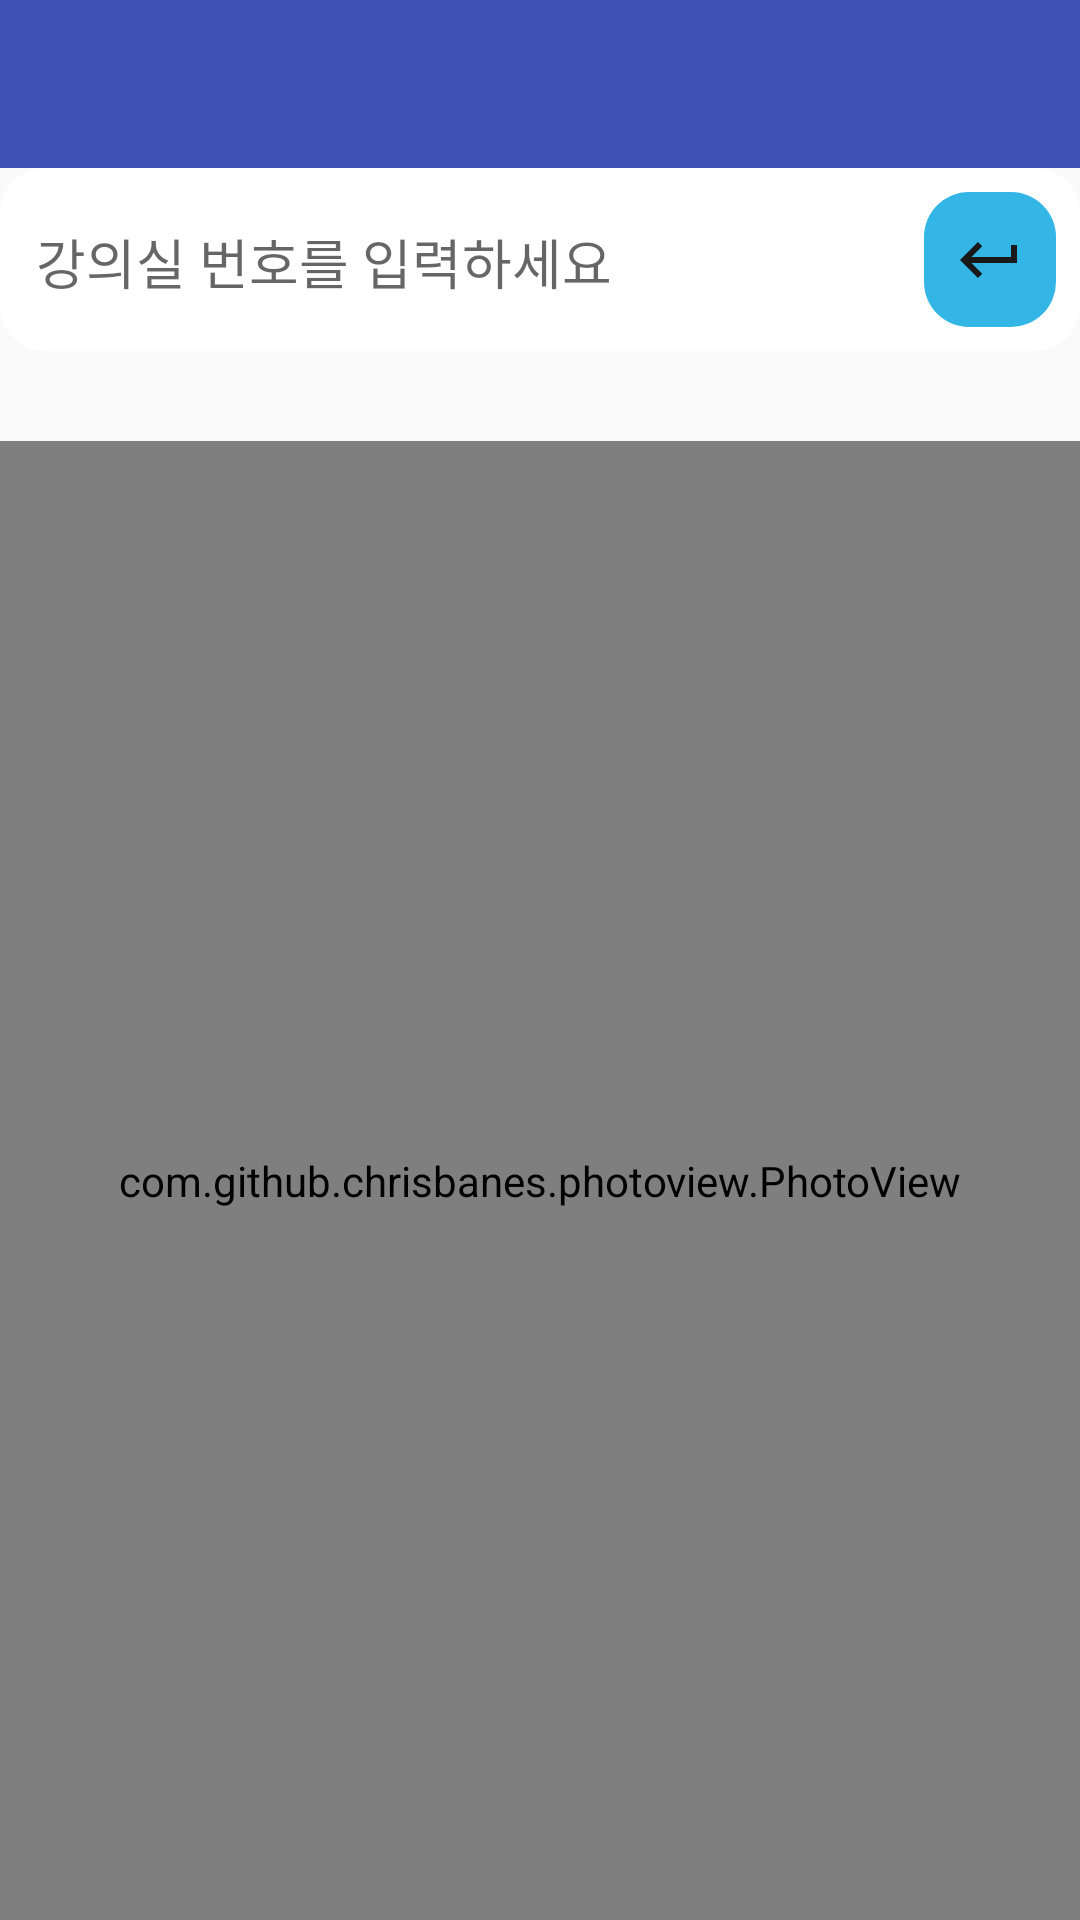

Icon click points for this 1080x1920 phone screenshot, format (x,y):
keyboard return: (990,259)
